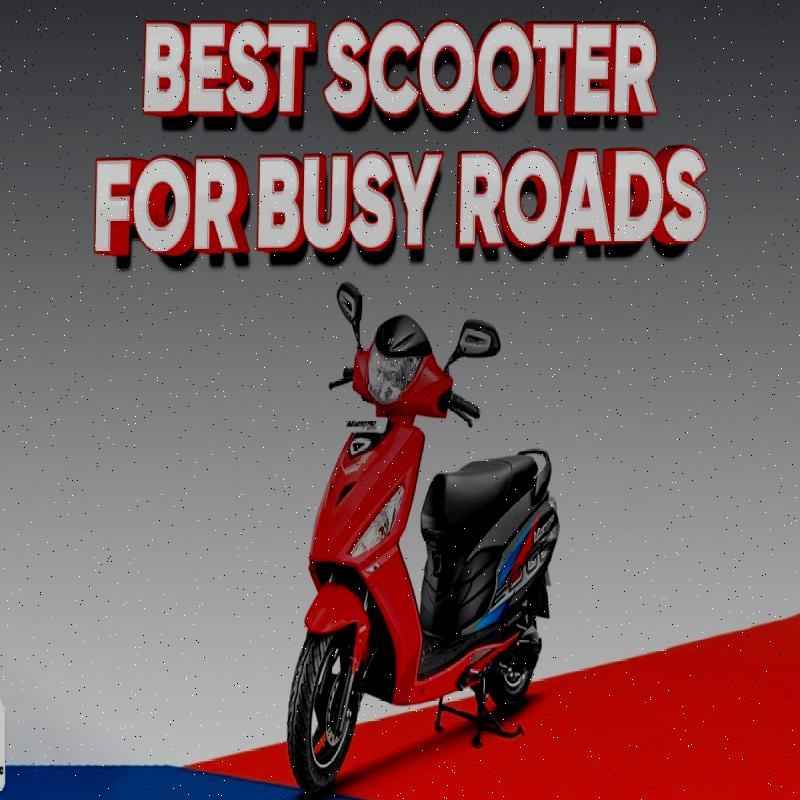bike: (278, 260, 564, 791)
